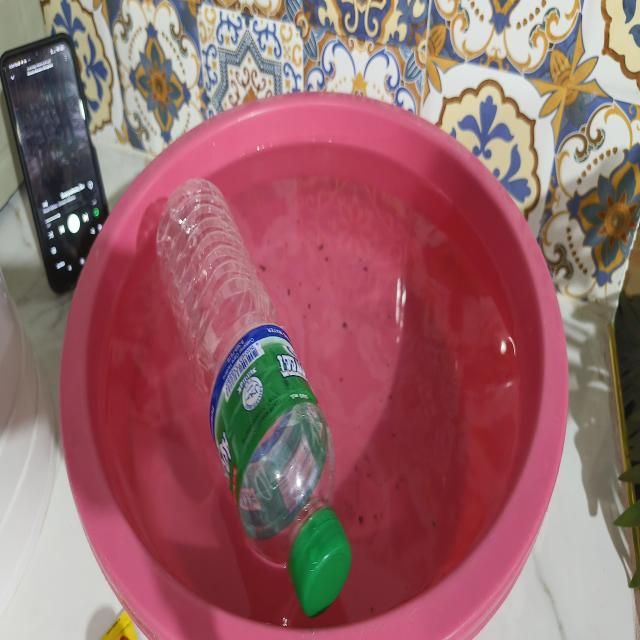Plastic Bottle: (157, 180, 351, 616)
